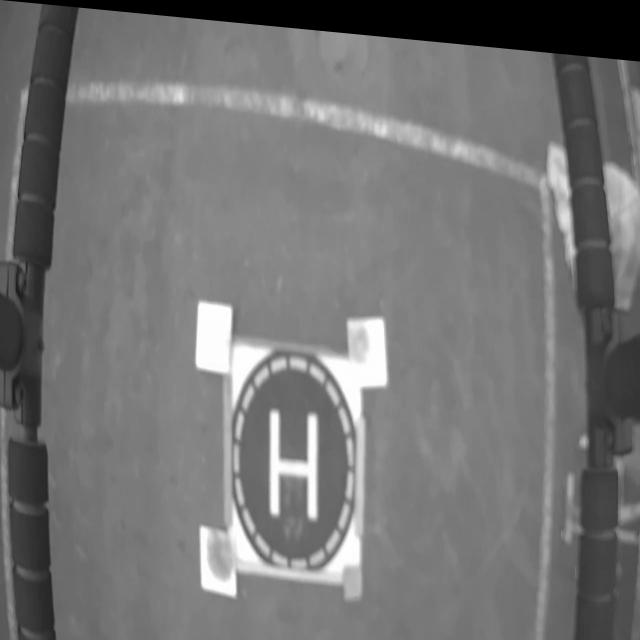Helipad: (270, 405, 318, 512)
